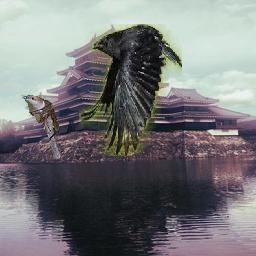Crow: (80, 24, 183, 156)
Cuckoo: (21, 95, 61, 159)
